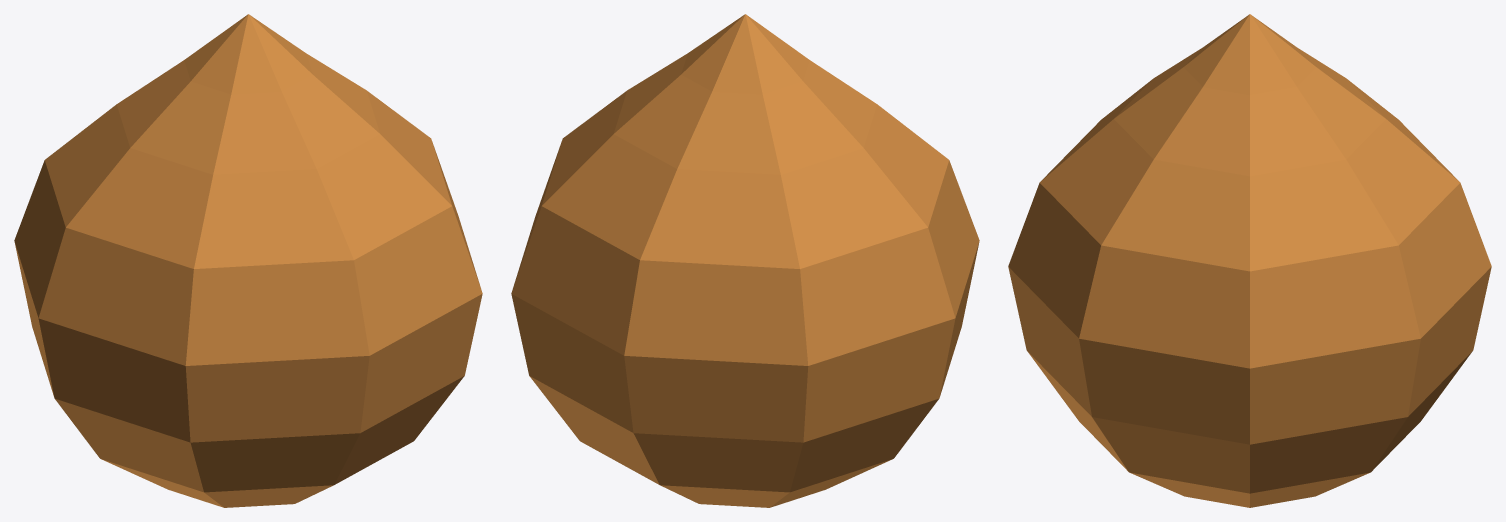
The model's file is gerzafi19_Cibule.fbx.
The picture shows the model from 3 angles, left to right: view 1: azimuth 30°, elevation 25°; view 2: azimuth 150°, elevation 25°; view 3: azimuth 270°, elevation 25°; orthographic projection.
Parts seen in each view (by area): view 1: pSphere1; view 2: pSphere1; view 3: pSphere1.
Boxes of the visible parts, bbox=[...] form: pSphere1: bbox=[14, 14, 482, 507]; pSphere1: bbox=[511, 14, 979, 507]; pSphere1: bbox=[1008, 14, 1491, 507].
Size of the model in its own units: 2 by 2.15 by 2.
